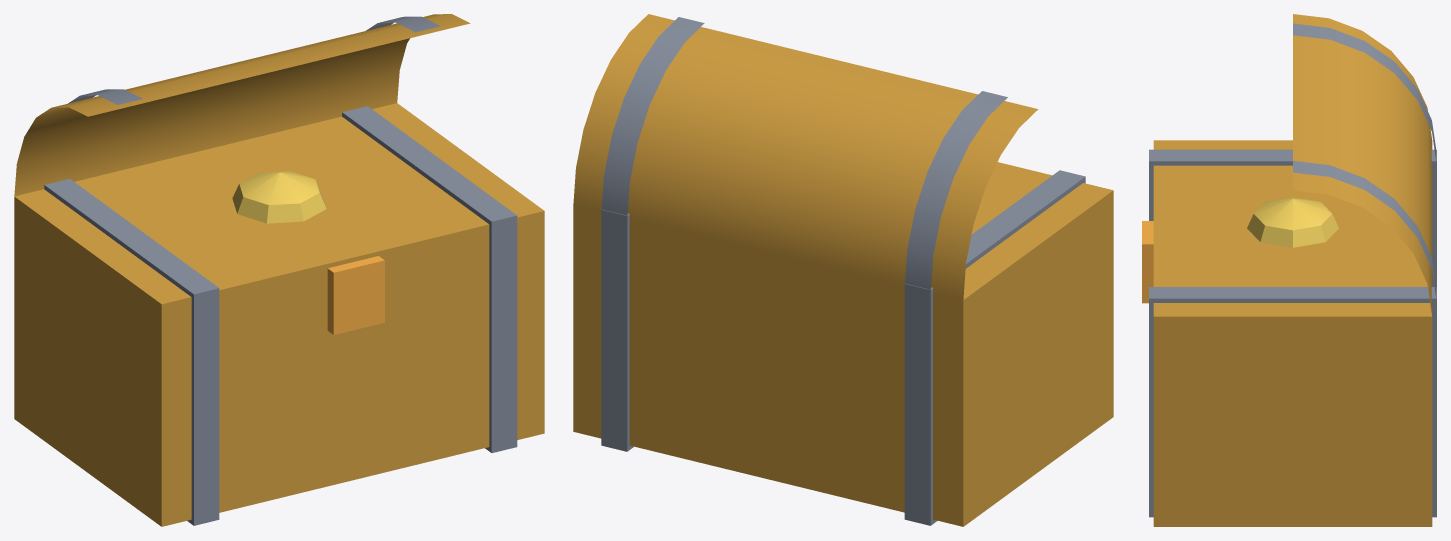
File: truhe.obj
3 views of the same model, side by side, from view 1: azimuth 30°, elevation 25°; view 2: azimuth 150°, elevation 25°; view 3: azimuth 270°, elevation 25° (orthographic). The views are drawn at different scales.
Parts seen in each view (by area): view 1: truhe_Koerper, truhe_Deckel; view 2: truhe_Koerper, truhe_Deckel; view 3: truhe_Koerper, truhe_Deckel.
Part boxes in pixels (box(x1,y1,x2,y2)): truhe_Koerper: box(14, 103, 544, 526); truhe_Deckel: box(14, 14, 470, 196); truhe_Koerper: box(573, 162, 1113, 526); truhe_Deckel: box(573, 14, 1038, 299); truhe_Koerper: box(1142, 140, 1436, 526); truhe_Deckel: box(1293, 14, 1436, 315).
Bounding box in the file's own units: 0.9 × 0.82 × 0.635.
